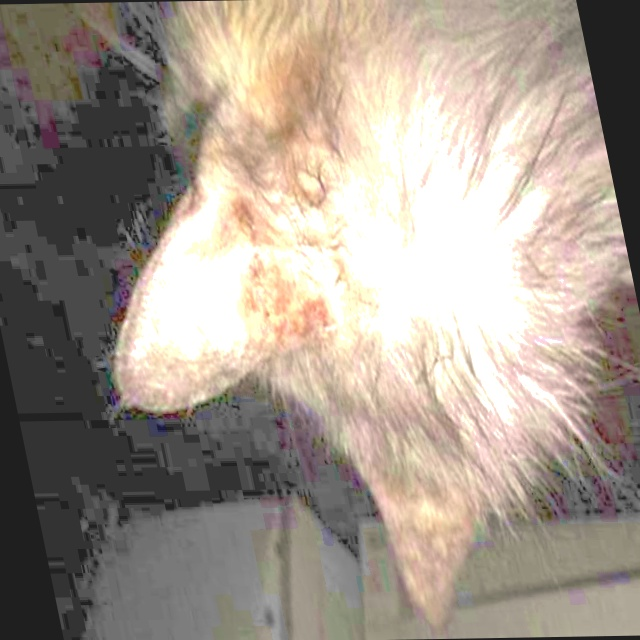ringworm: (221, 195, 343, 342)
